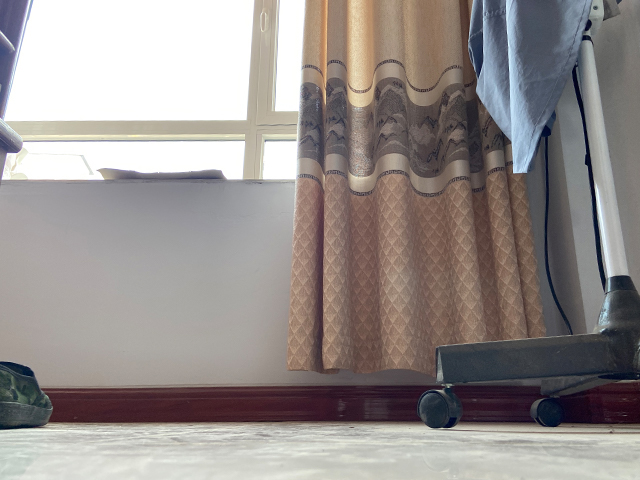curtain: (285, 1, 546, 376)
